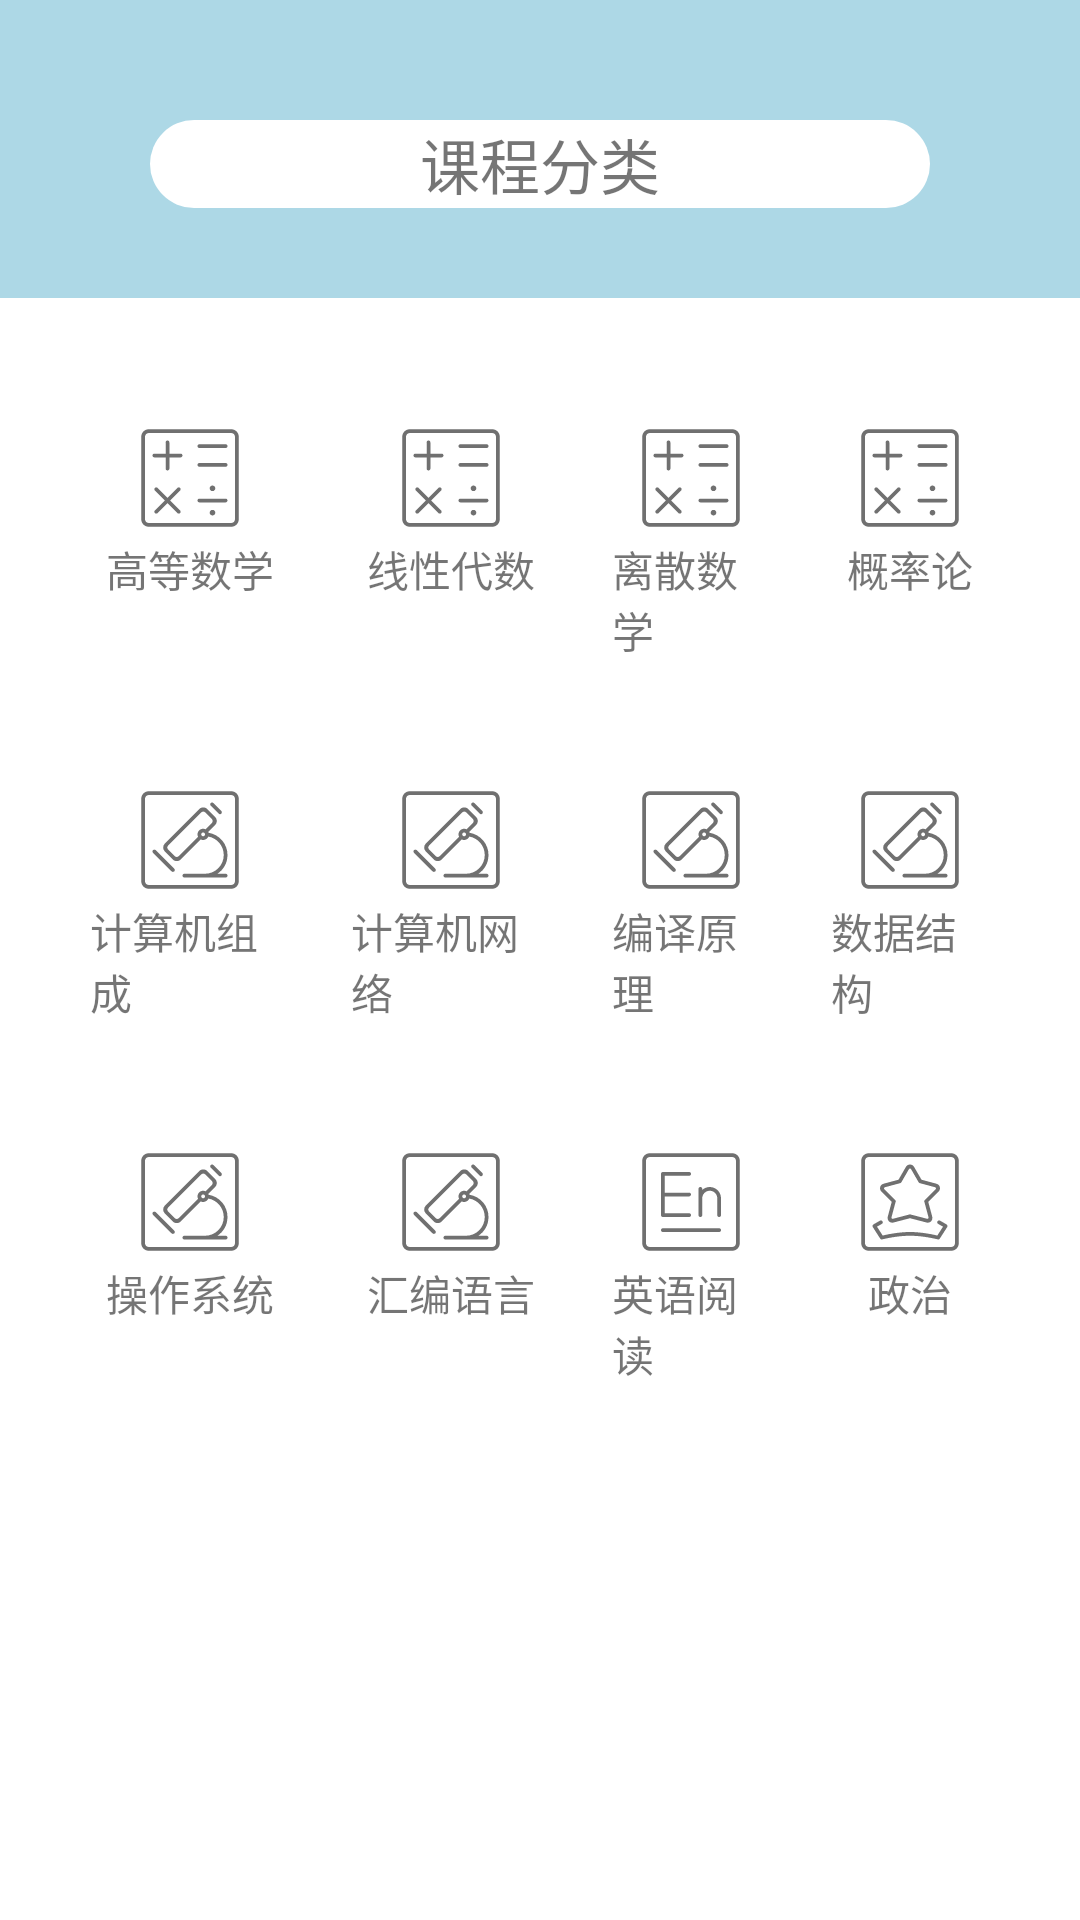

Icons on this 1080 × 1920 Android screen, each with the point to tap as (x=x, y=y):
shengwu: (x=190, y=840), (x=451, y=840), (x=691, y=840), (x=910, y=840), (x=190, y=1202), (x=451, y=1202)
